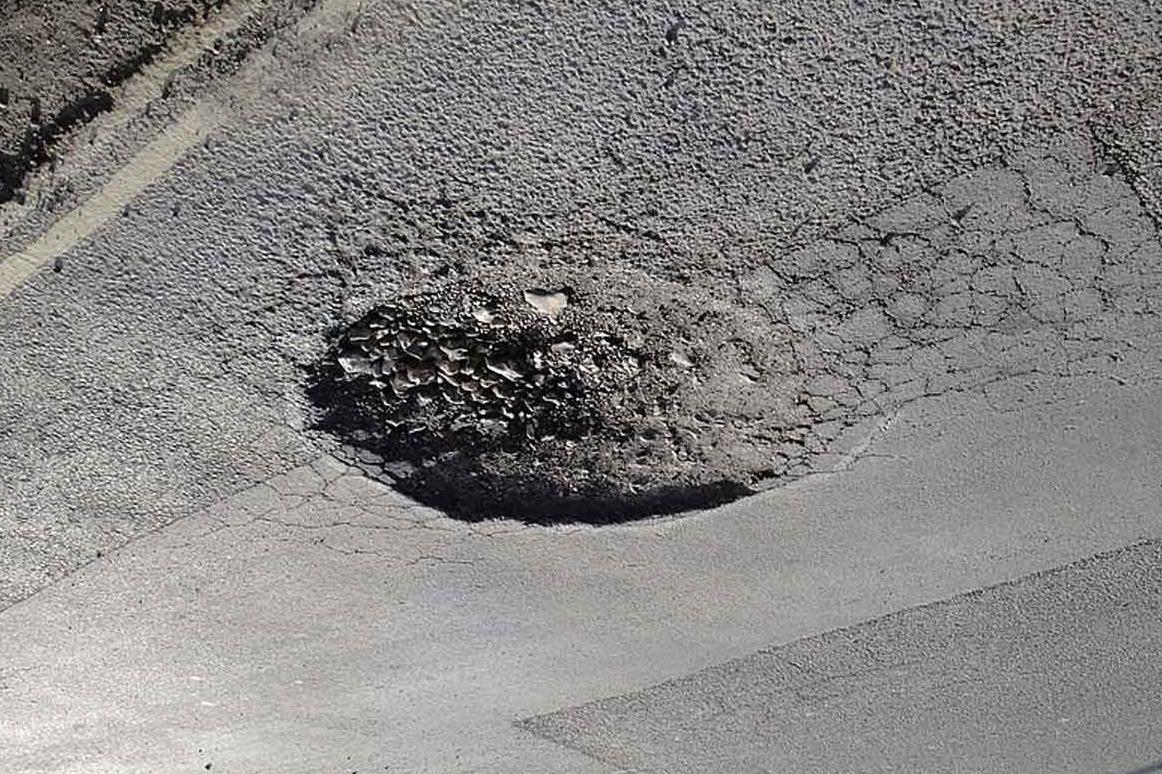pothole: (253, 216, 918, 601)
